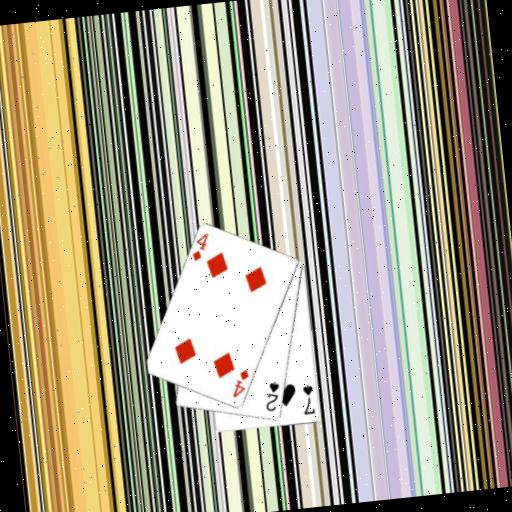2S: (261, 378, 284, 414)
4D: (227, 366, 253, 400), (187, 230, 212, 264)
7S: (298, 382, 317, 417)
